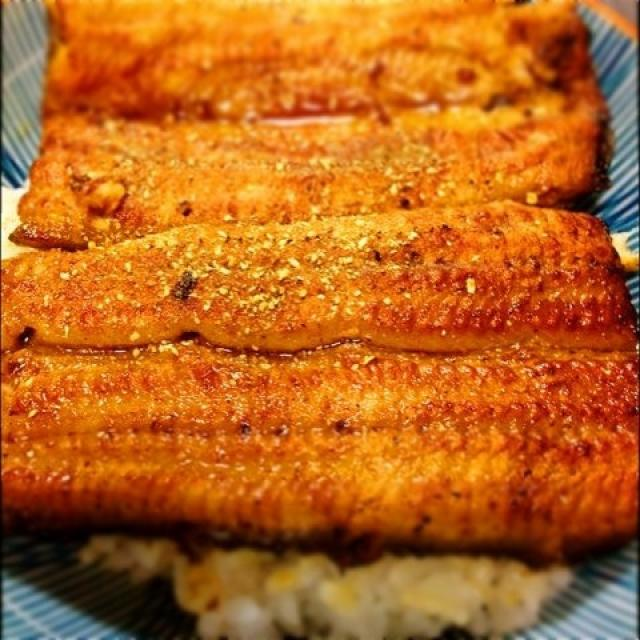熟制海鲜: (8, 8, 625, 605)
